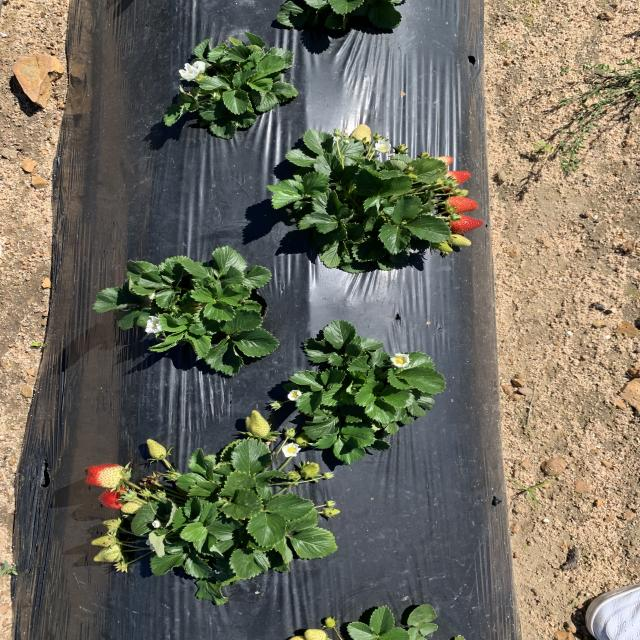unripe: (95, 486, 136, 510), (442, 213, 487, 234), (441, 170, 472, 187), (444, 198, 480, 212)
